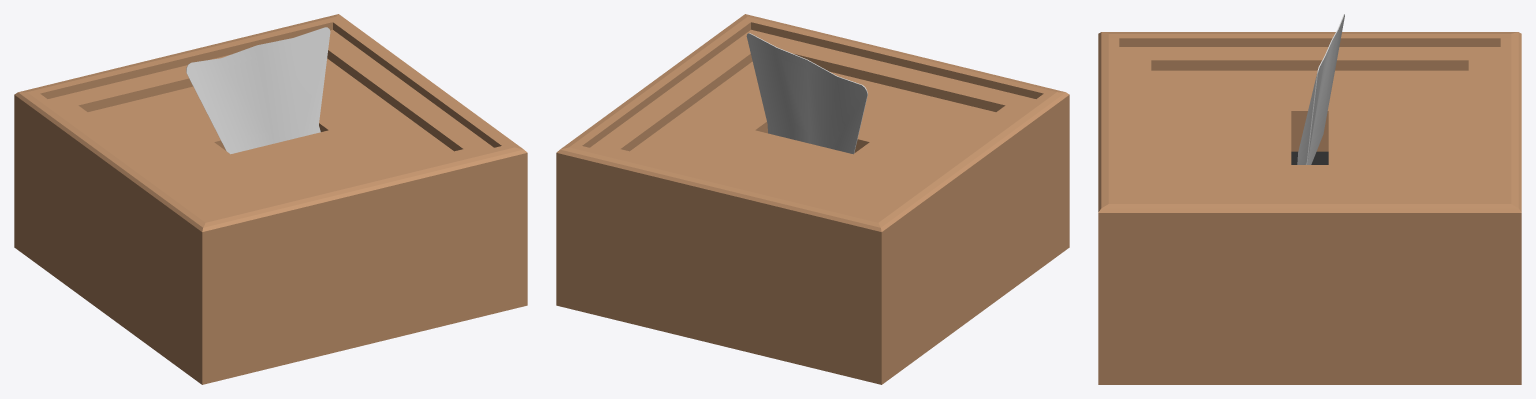
Rendered from tissue case_1.fbx.
The picture shows the model from 3 angles, left to right: view 1: azimuth 30°, elevation 25°; view 2: azimuth 150°, elevation 25°; view 3: azimuth 270°, elevation 25°; orthographic projection. The views are drawn at different scales.
Parts seen in each view (by area): view 1: Cube.002; view 2: Cube.002; view 3: Cube.002.
Boxes of the visible parts, x1,y1,x2,y2 form: Cube.002: (14,14,527,384); Cube.002: (556,14,1069,384); Cube.002: (1098,14,1521,384).
Bounding box in the file's own units: 60 × 40.83 × 60.
